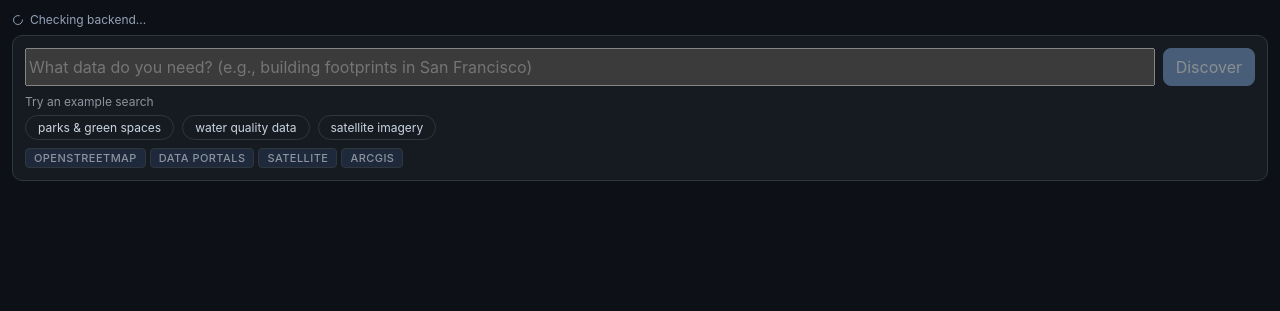
Test: DiscoveryPanel — loading states › shows Locating... during geocoding
Replace the text in the field with placeholder "What data do you need" with "buildings in SF" at (590, 67), box [25, 48, 1155, 86]
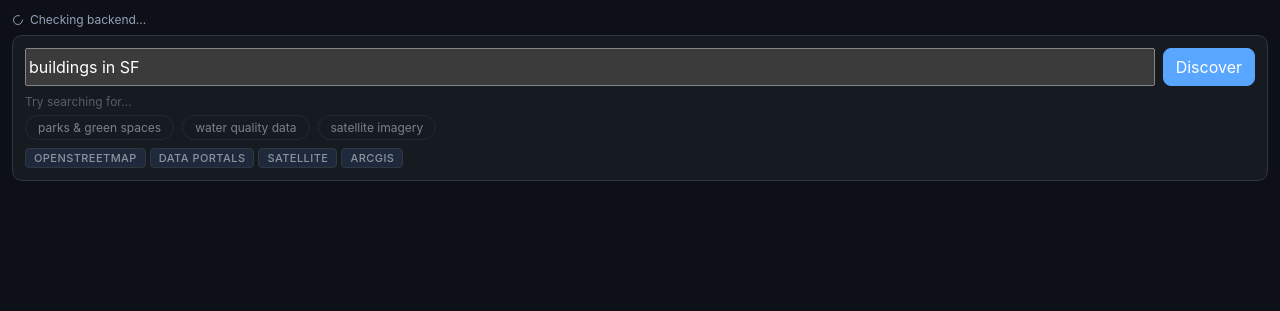
Click the button "Discover" at (1209, 67), box [1163, 48, 1255, 86]
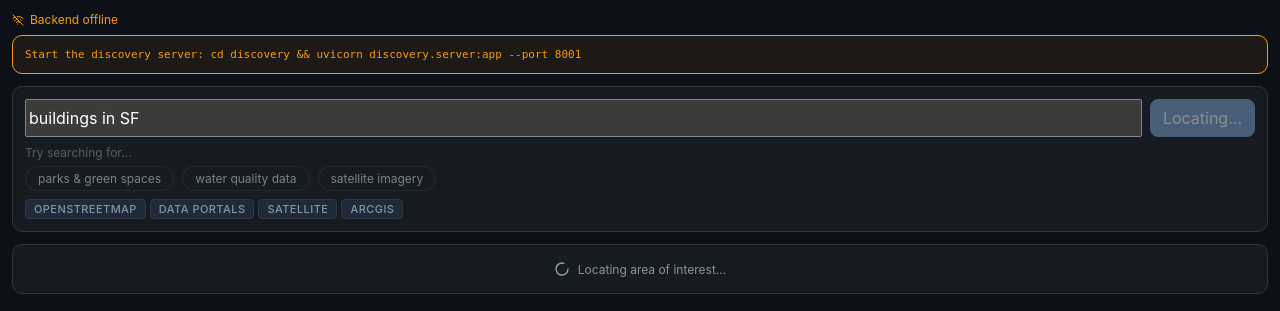
Expected: the button "Locating..." is shown, [1150, 99, 1255, 137]
